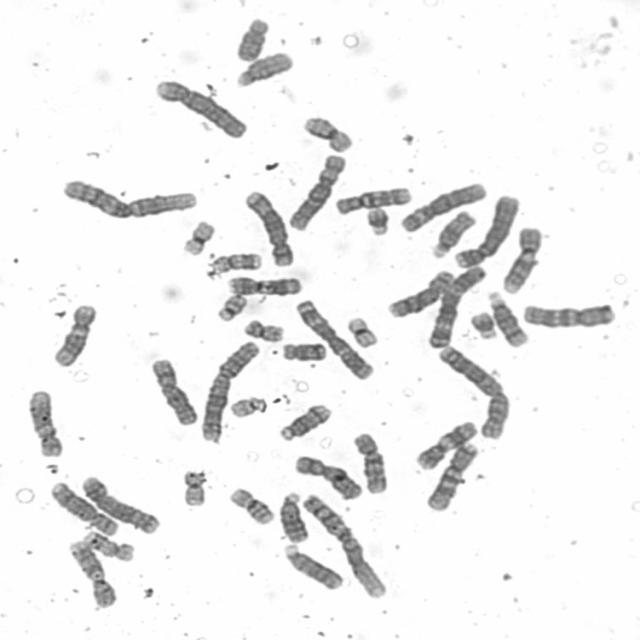A1: (298, 490, 389, 600), (59, 175, 200, 221)
A2: (436, 342, 512, 440), (197, 338, 261, 444)
A3: (291, 296, 376, 380), (424, 263, 488, 349)
B4: (151, 75, 250, 141), (451, 190, 521, 270)
B5: (79, 472, 161, 536), (242, 187, 296, 268)
C10: (348, 428, 389, 496), (332, 184, 414, 216)
C11: (411, 417, 479, 471), (224, 274, 304, 296)
C12: (49, 300, 99, 368), (24, 386, 64, 458)
C6: (284, 150, 348, 232), (396, 179, 488, 234)
C7: (424, 440, 481, 512), (519, 299, 617, 329)
C8: (48, 479, 119, 536), (383, 266, 456, 320)
C9: (66, 537, 118, 609), (497, 223, 544, 296)
D13: (280, 542, 344, 592), (276, 489, 310, 543)
D14: (484, 288, 529, 349), (276, 401, 333, 442)
D15: (427, 208, 478, 260), (231, 48, 295, 89)
E16: (299, 113, 355, 154), (227, 484, 276, 526)
E17: (80, 528, 136, 562), (210, 249, 263, 275)
E18: (231, 14, 271, 63), (278, 340, 327, 362)
F19: (178, 217, 217, 257), (344, 314, 379, 349)
F20: (242, 316, 286, 344), (180, 468, 210, 509)
G21: (467, 308, 498, 341), (363, 204, 392, 237)
G22: (214, 292, 249, 322), (228, 393, 268, 419)
X: (146, 354, 200, 426), (291, 452, 365, 500)
